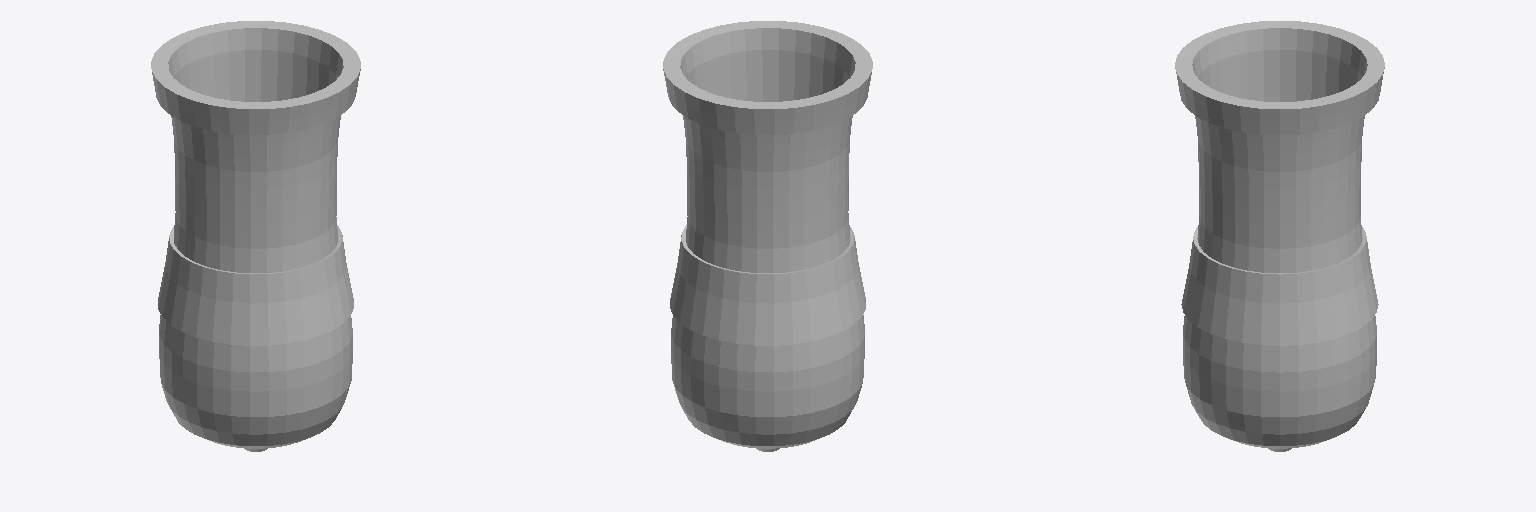
Rendered from cannon_12.obj.
The picture shows the model from 3 angles: view 1: azimuth 30°, elevation 25°; view 2: azimuth 150°, elevation 25°; view 3: azimuth 270°, elevation 25°; orthographic projection.
Visible parts, largest first — view 1: 炮管.003_柱体.009; view 2: 炮管.003_柱体.009; view 3: 炮管.003_柱体.009.
Boxes of the visible parts, x1=… form: 炮管.003_柱体.009: x1=151, y1=21, x2=360, y2=451; 炮管.003_柱体.009: x1=663, y1=21, x2=872, y2=451; 炮管.003_柱体.009: x1=1175, y1=21, x2=1384, y2=451.
Bounding box in the file's own units: 0.9245 × 1.85 × 0.9245.